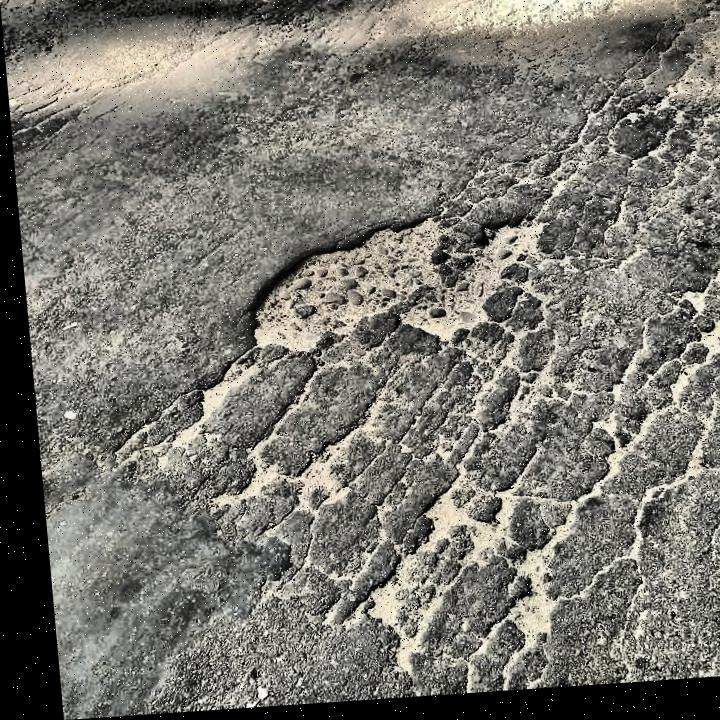pothole: (229, 212, 550, 366)
